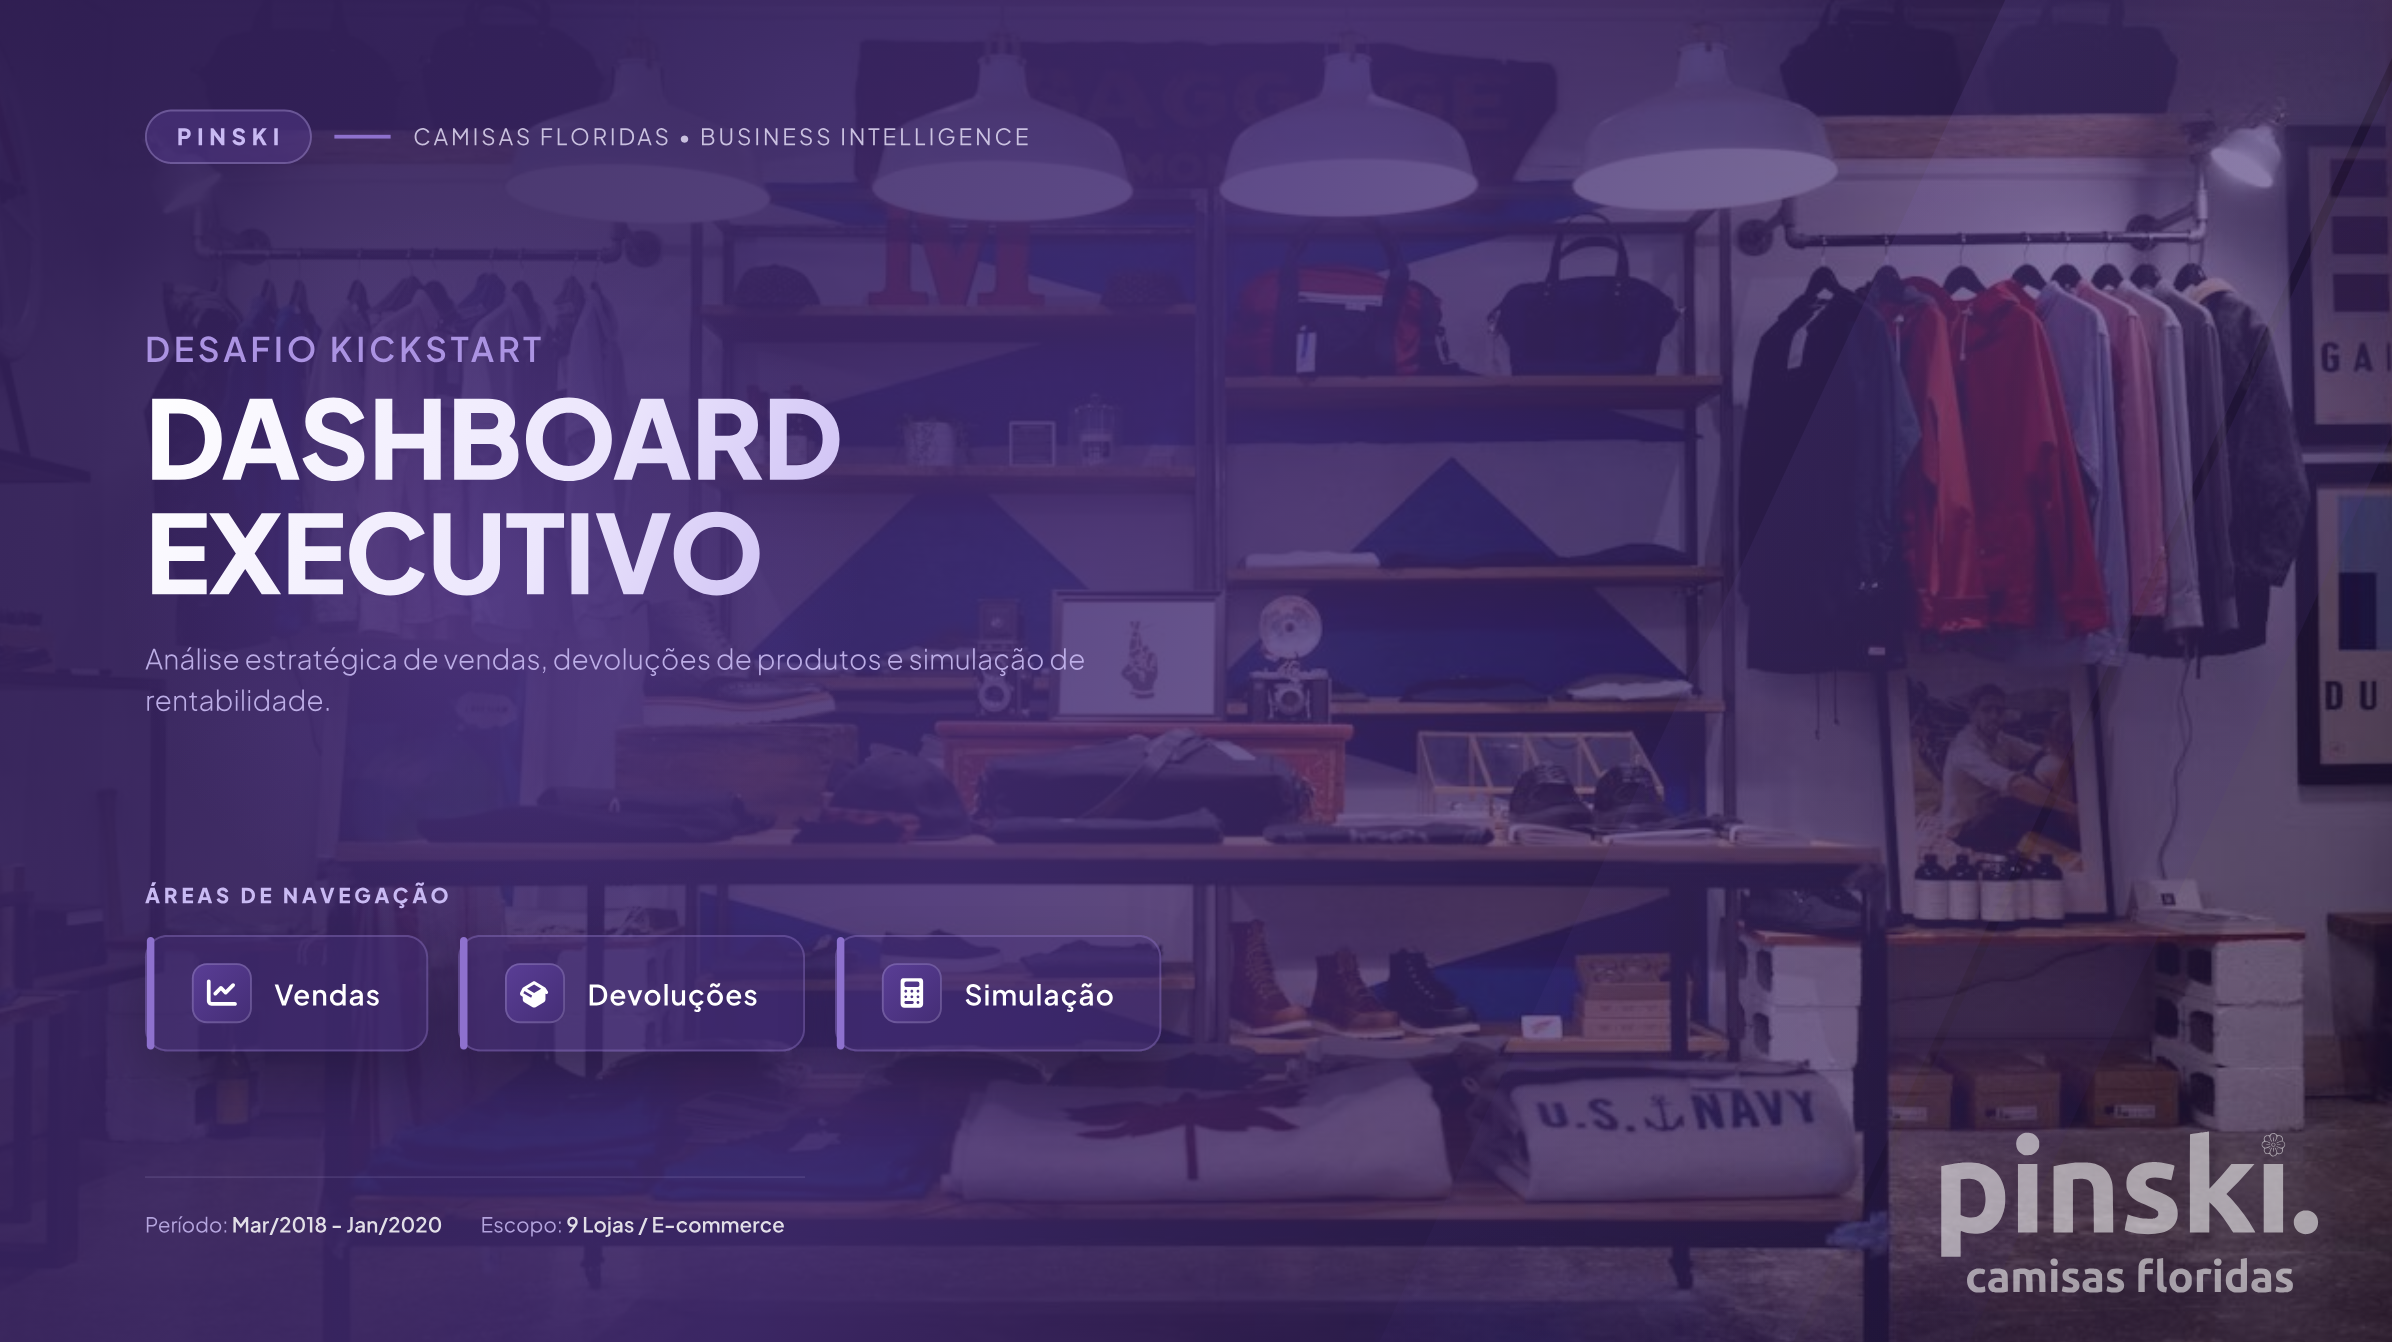

What the dashboard file says about the page in this screenshot:
{"tool":"powerbi","page":{"name":"Home","canvas":[1280,720],"ordinal":0},"visuals":[{"type":"group","id":"g1","title":"g_navegação","box":[81,493.9,539,68.5],"z":0},{"type":"actionButton","title":"Simulação","box":[448.1,494.1,171.9,64.1],"z":4250,"group":"g1"},{"type":"actionButton","title":"Devoluções","box":[245.6,493.9,187.9,68.5],"z":4500,"group":"g1"},{"type":"actionButton","title":"Vendas","box":[81,494.1,150,67],"z":5000,"group":"g1"}]}

Visuals, with their boxes in screenshot pixels (x1, y1, x2, y2), scaled from the page's 1280x720 canvas onto the 2392x1342 screenshot:
"g_navegação" group: l=151, t=921, r=1159, b=1048
"Simulação" actionButton: l=837, t=921, r=1159, b=1040
"Devoluções" actionButton: l=459, t=921, r=810, b=1048
"Vendas" actionButton: l=151, t=921, r=432, b=1046
